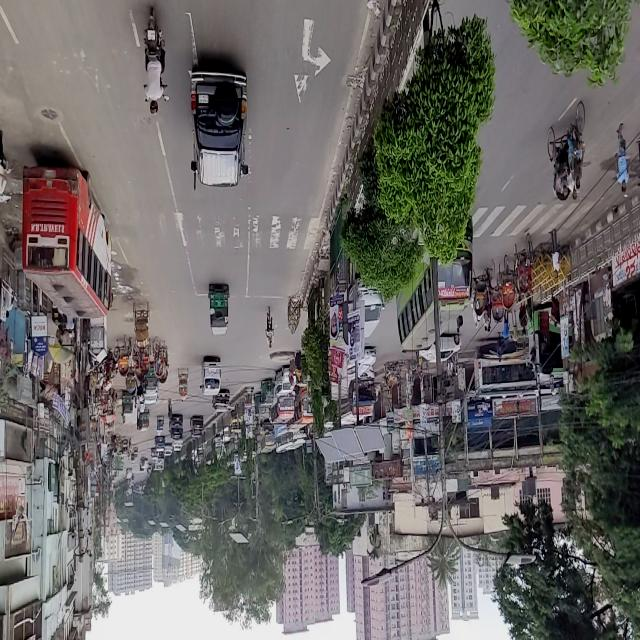black: (192, 70, 249, 188)
white: (199, 357, 223, 397)
